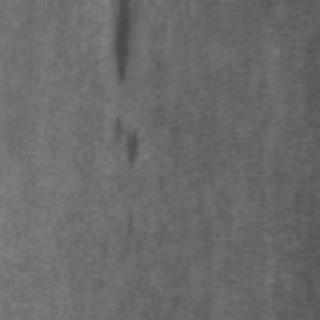inclusion: (101, 0, 133, 84), (104, 110, 140, 170)
